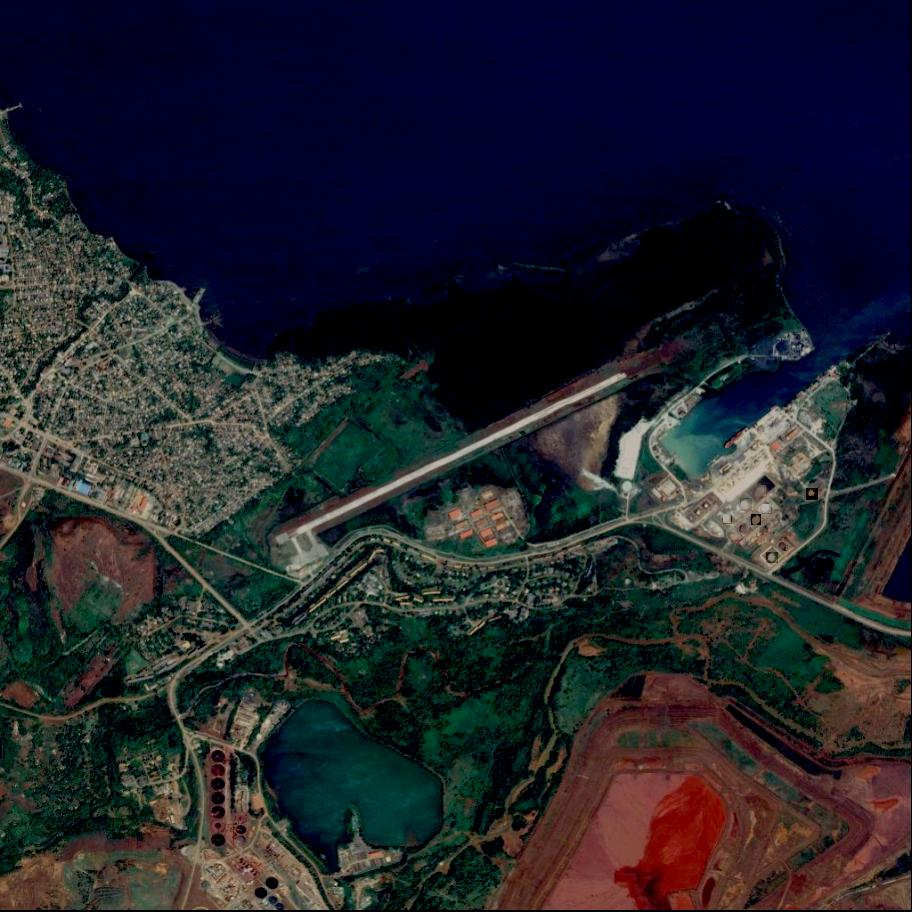storage-tank: (738, 522, 751, 535), (740, 498, 753, 511), (806, 489, 819, 501), (767, 552, 779, 563), (756, 486, 767, 498), (751, 514, 761, 525), (761, 505, 771, 513), (724, 514, 731, 523), (779, 543, 787, 550)
